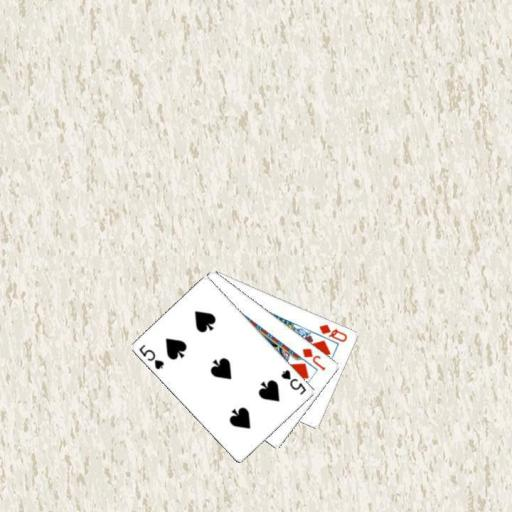card-corner: (278, 366, 308, 396), (136, 342, 166, 372), (316, 320, 349, 344), (299, 345, 327, 372)
